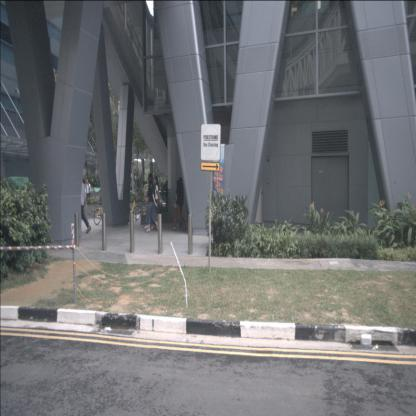human-pedestrian-adult: (72, 175, 91, 234), (144, 174, 156, 230), (146, 176, 158, 232), (173, 180, 185, 230), (178, 177, 186, 228), (154, 176, 160, 230), (85, 180, 91, 210)
vehicle-bicycle: (121, 191, 142, 220), (93, 196, 114, 225)
